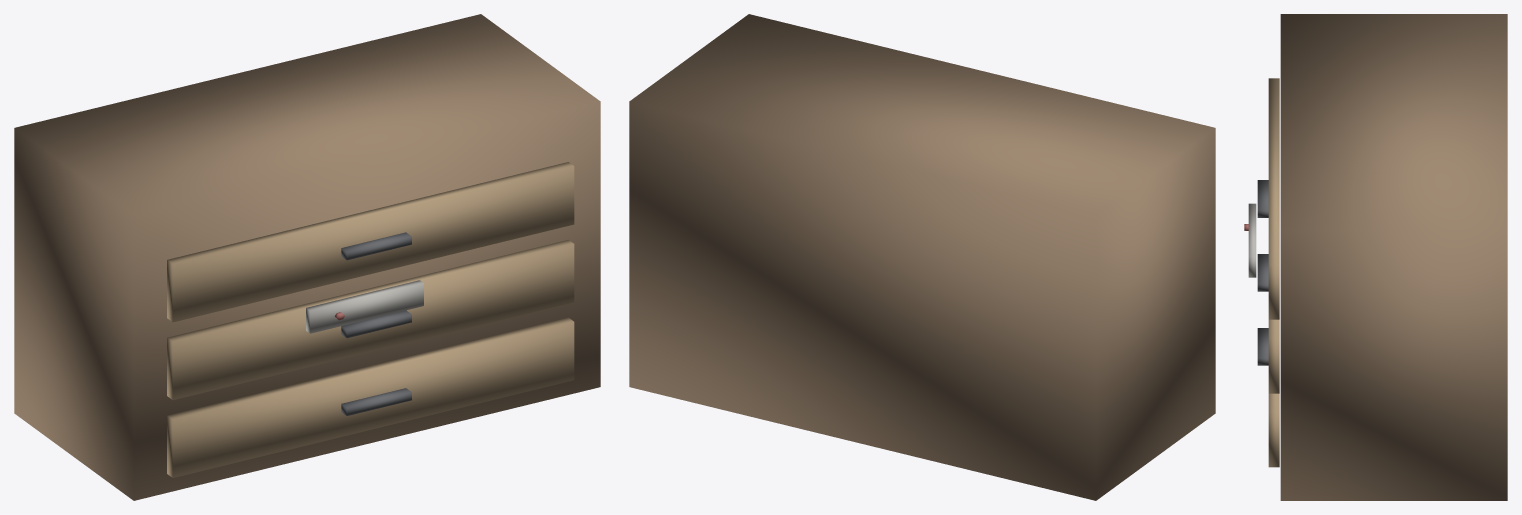
Rendered from motel_dresser__squat.glb.
3 views of the same model, side by side, from view 1: azimuth 30°, elevation 25°; view 2: azimuth 150°, elevation 25°; view 3: azimuth 270°, elevation 25° (orthographic). The views are drawn at different scales.
Visible parts, largest first — view 1: world; view 2: world; view 3: world.
Part boxes in pixels (x1,y1,x2,y2): world: [14, 14, 600, 500]; world: [629, 14, 1215, 500]; world: [1244, 14, 1507, 500].
Bounding box in the file's own units: 1.26 × 0.7392 × 0.6518.
